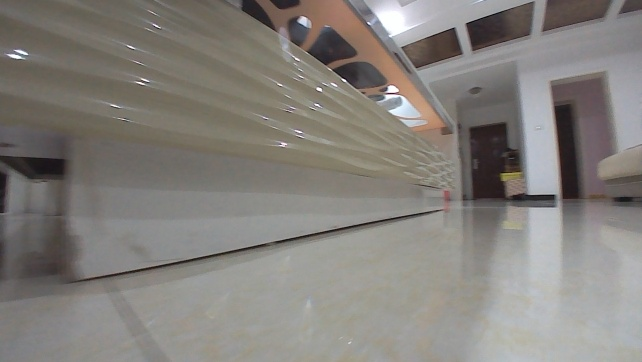door_anno: (468, 121, 511, 203)
sofa1: (595, 142, 641, 203)
tea_table: (0, 0, 458, 285)
